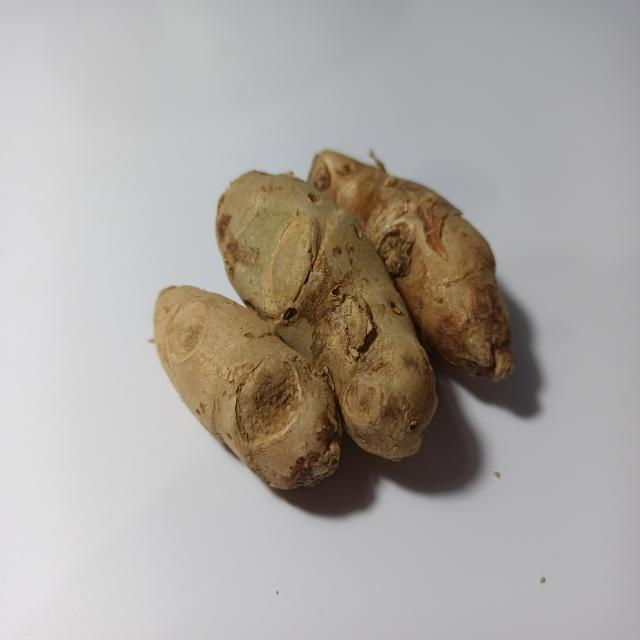ginger: (162, 180, 508, 472)
